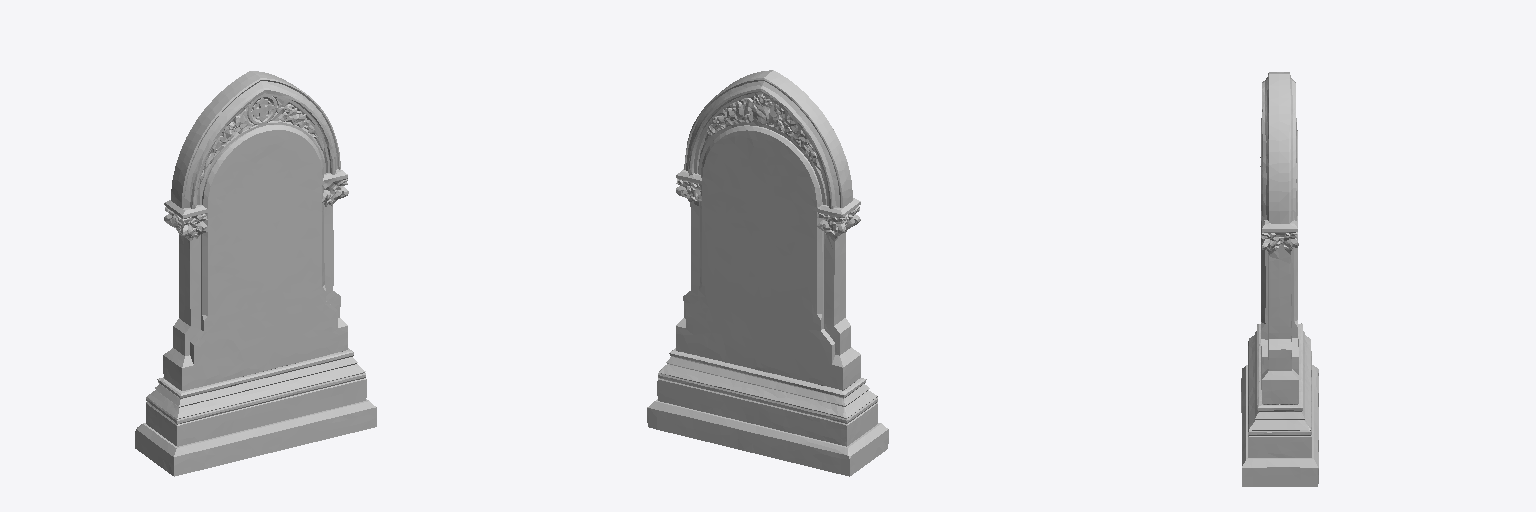
3 renders of one model, left to right at view 1: azimuth 30°, elevation 25°; view 2: azimuth 150°, elevation 25°; view 3: azimuth 270°, elevation 25°, orthographic.
Parts seen in each view (by area): view 1: Aset_historical__M_wjuvdfcqx_00_LOD0; view 2: Aset_historical__M_wjuvdfcqx_00_LOD0; view 3: Aset_historical__M_wjuvdfcqx_00_LOD0.
Boxes of the visible parts, x1=… form: Aset_historical__M_wjuvdfcqx_00_LOD0: x1=135, y1=71, x2=376, y2=476; Aset_historical__M_wjuvdfcqx_00_LOD0: x1=647, y1=70, x2=888, y2=476; Aset_historical__M_wjuvdfcqx_00_LOD0: x1=1241, y1=72, x2=1318, y2=486.
Size of the model in its own units: 0.8512 by 1.46 by 0.2818.